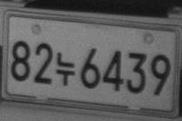2: (33, 41, 52, 85)
3: (125, 51, 147, 94)
4: (101, 49, 124, 91)
6: (79, 47, 101, 89)
8: (10, 39, 31, 81)
9: (150, 53, 171, 96)
누: (55, 51, 75, 85)
